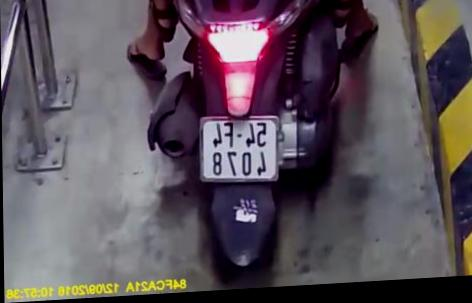License_Plate: (188, 107, 287, 189)
